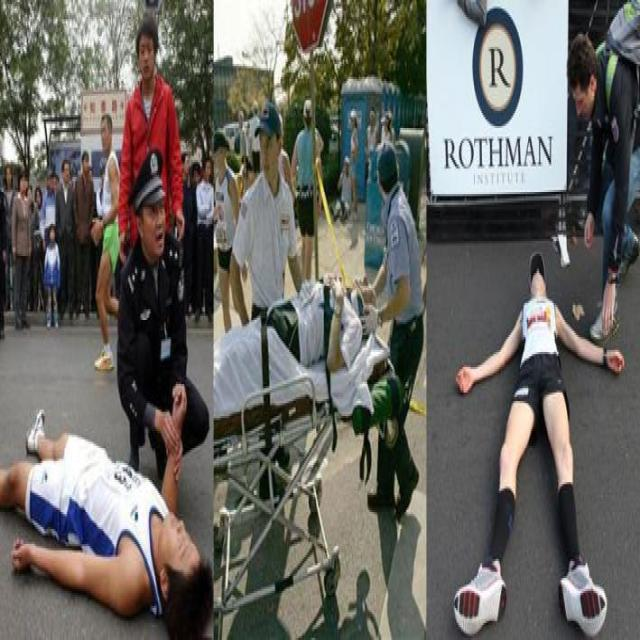10-: (1, 0, 638, 634)
down: (447, 239, 625, 638), (0, 403, 213, 632), (219, 254, 380, 429)
